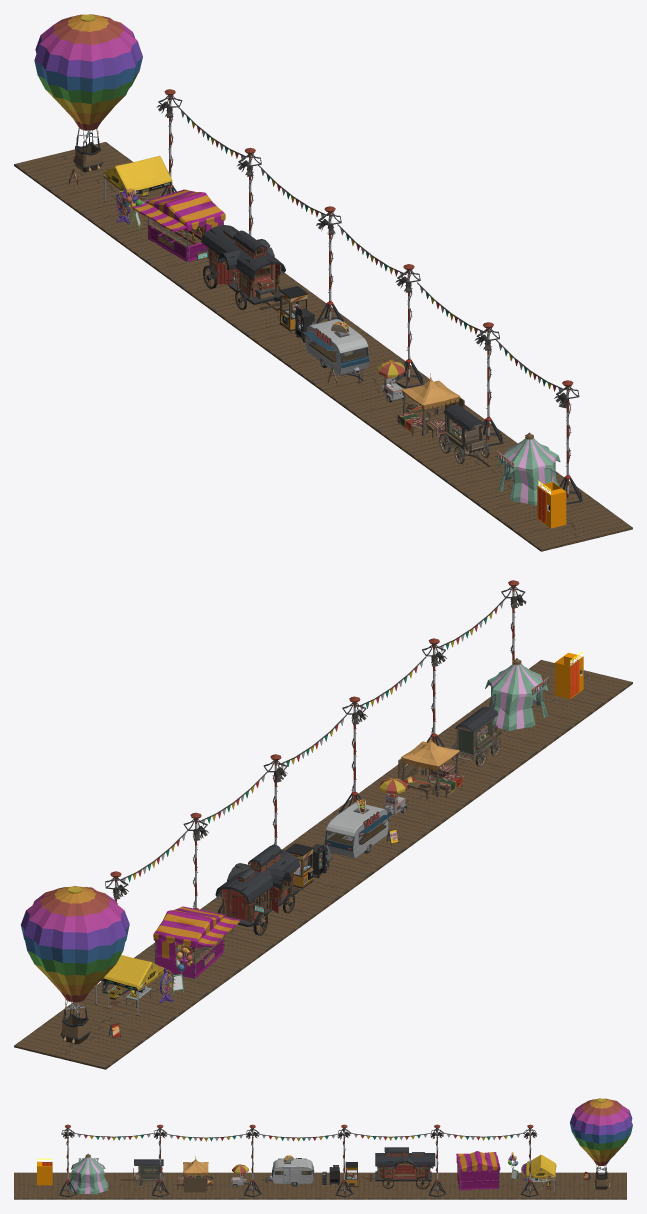
Rendered from CommercialStrip2.glb.
3 renders of one model, top to bottom at view 1: azimuth 30°, elevation 25°; view 2: azimuth 150°, elevation 25°; view 3: azimuth 270°, elevation 25°, orthographic. The views are drawn at different scales.
Visible parts, largest first — view 1: Boardwalk, SM_Prop_Hot_Air_Balloon_01.002, SM_Veh_Wagon_01, SM_Prop_Tent_01, SM_Veh_Food_Trailer_02, SM_Prop_Stall_01, SM_Prop_Tent_03, SM_Veh_Wagon_Shop_01, SM_Prop_Market_Stall_05, Photo_booth_Cube.031, SM_Prop_Market_Stall_03_Dressing; view 2: Boardwalk, SM_Prop_Hot_Air_Balloon_01.002, SM_Veh_Wagon_01, SM_Prop_Tent_01, SM_Veh_Food_Trailer_02, SM_Prop_Stall_01, SM_Prop_Tent_03, SM_Veh_Wagon_Shop_01, SM_Prop_Market_Stall_05, Photo_booth_Cube.031, SM_Prop_Market_Stall_03_Dressing, SM_Prop_Stall_Side_03 (1) (+1 smaller); view 3: Boardwalk, SM_Prop_Hot_Air_Balloon_01.002, SM_Veh_Wagon_01, SM_Prop_Stall_01, SM_Prop_Tent_01, SM_Veh_Food_Trailer_02, SM_Prop_Tent_03, SM_Veh_Wagon_Shop_01, SM_Prop_Market_Stall_05, Photo_booth_Cube.031, SM_Prop_Market_Stall_05_Dressing.223, SM_Prop_Bunting_Pole_01 (+13 smaller).
Boxes of the visible parts, x1,y1,x2,y2 form: Boardwalk: (14,142,632,551); SM_Prop_Hot_Air_Balloon_01.002: (34,14,142,172); SM_Veh_Wagon_01: (196,225,287,310); SM_Prop_Tent_01: (497,432,560,505); SM_Veh_Food_Trailer_02: (302,319,369,383); SM_Prop_Stall_01: (146,189,225,262); SM_Prop_Tent_03: (103,155,172,220); SM_Veh_Wagon_Shop_01: (443,404,486,454); SM_Prop_Market_Stall_05: (401,373,459,436); Photo_booth_Cube.031: (537,482,566,528); SM_Prop_Market_Stall_03_Dressing: (397,403,445,438); Boardwalk: (14,660,632,1069); SM_Prop_Hot_Air_Balloon_01.002: (21,886,129,1044); SM_Veh_Wagon_01: (215,845,300,935); SM_Prop_Tent_01: (485,658,548,730); SM_Veh_Food_Trailer_02: (324,802,392,858); SM_Prop_Stall_01: (153,906,225,979); SM_Prop_Tent_03: (95,955,163,1015); SM_Veh_Wagon_Shop_01: (455,706,498,761); SM_Prop_Market_Stall_05: (401,734,459,797); Photo_booth_Cube.031: (555,652,583,698); SM_Prop_Market_Stall_03_Dressing: (402,763,463,799); SM_Prop_Stall_Side_03 (1): (156,939,194,978); Boardwalk: (14,1172,626,1199); SM_Prop_Hot_Air_Balloon_01.002: (570,1098,632,1189); SM_Veh_Wagon_01: (361,1147,435,1189); SM_Prop_Stall_01: (456,1151,500,1190); SM_Prop_Tent_01: (68,1153,108,1194); SM_Veh_Food_Trailer_02: (262,1158,314,1183); SM_Prop_Tent_03: (525,1154,556,1193); SM_Veh_Wagon_Shop_01: (133,1159,163,1181); SM_Prop_Market_Stall_05: (183,1156,208,1190); Photo_booth_Cube.031: (37,1161,52,1185); SM_Prop_Market_Stall_05_Dressing.223: (184,1177,205,1192); SM_Prop_Bunting_Pole_01: (335,1124,353,1197).
Bounding box in the file's own units: 8.43 × 12.23 × 77.9.
50 materials, 38 textured.
